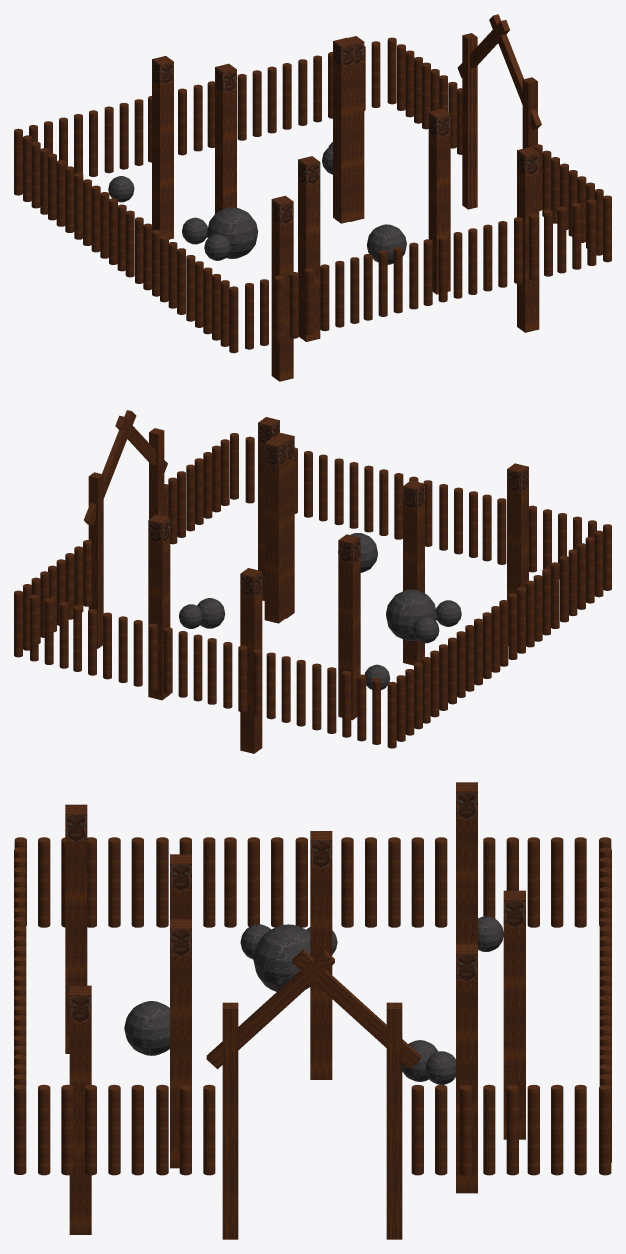
Rendered from Maori_Wonder.dae.
The picture shows the model from 3 angles, top to bottom: view 1: azimuth 30°, elevation 25°; view 2: azimuth 150°, elevation 25°; view 3: azimuth 270°, elevation 25°; orthographic projection. The views are drawn at different scales.
Parts seen in each view (by area): view 1: Cube.005; view 2: Cube.005; view 3: Cube.005.
Boxes of the visible parts, box(x1,y1,x2,y2) form: Cube.005: box(14, 14, 611, 381); Cube.005: box(14, 410, 611, 753); Cube.005: box(14, 782, 611, 1239).
Bounding box in the file's own units: 32.9 × 32.83 × 20.08.
Materials: 1 (1 with a texture image).
